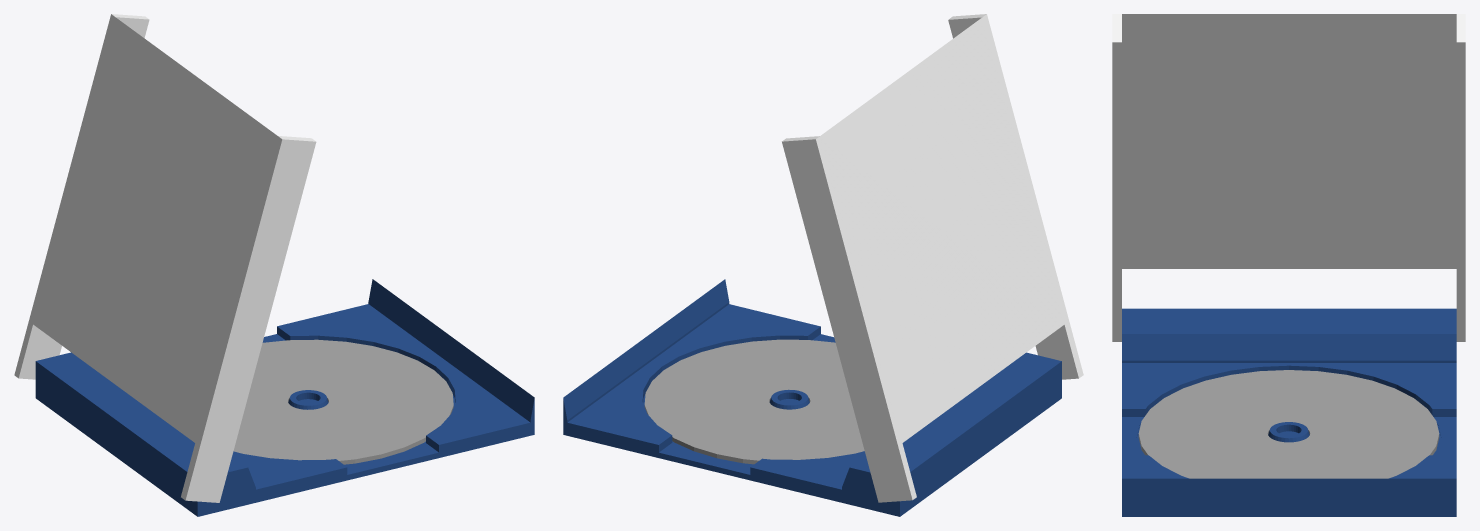
The model's file is Dreamcast 1.fbx.
The picture shows the model from 3 angles, left to right: view 1: azimuth 30°, elevation 25°; view 2: azimuth 150°, elevation 25°; view 3: azimuth 270°, elevation 25°; orthographic projection. The views are drawn at different scales.
Visible parts, largest first — view 1: dreamcast-cover-90°.001, dreamcast.001, CD-dreamcast.001, CD-Middle.002; view 2: dreamcast-cover-90°.001, dreamcast.001, CD-dreamcast.001, CD-Middle.002; view 3: dreamcast-cover-90°.001, dreamcast.001, CD-dreamcast.001, CD-Middle.002.
Part boxes in pixels (x1,y1,x2,y2): dreamcast-cover-90°.001: (14,14,316,502); dreamcast.001: (35,279,534,516); CD-dreamcast.001: (233,339,453,464); CD-Middle.002: (288,390,328,409); dreamcast-cover-90°.001: (782,14,1083,502); dreamcast.001: (563,279,1061,516); CD-dreamcast.001: (644,339,864,464); CD-Middle.002: (769,389,809,409); dreamcast-cover-90°.001: (1112,14,1465,341); dreamcast.001: (1122,308,1456,516); CD-dreamcast.001: (1138,370,1439,478); CD-Middle.002: (1268,422,1309,442).
Size of the model in its own units: 149 by 146 by 125.
